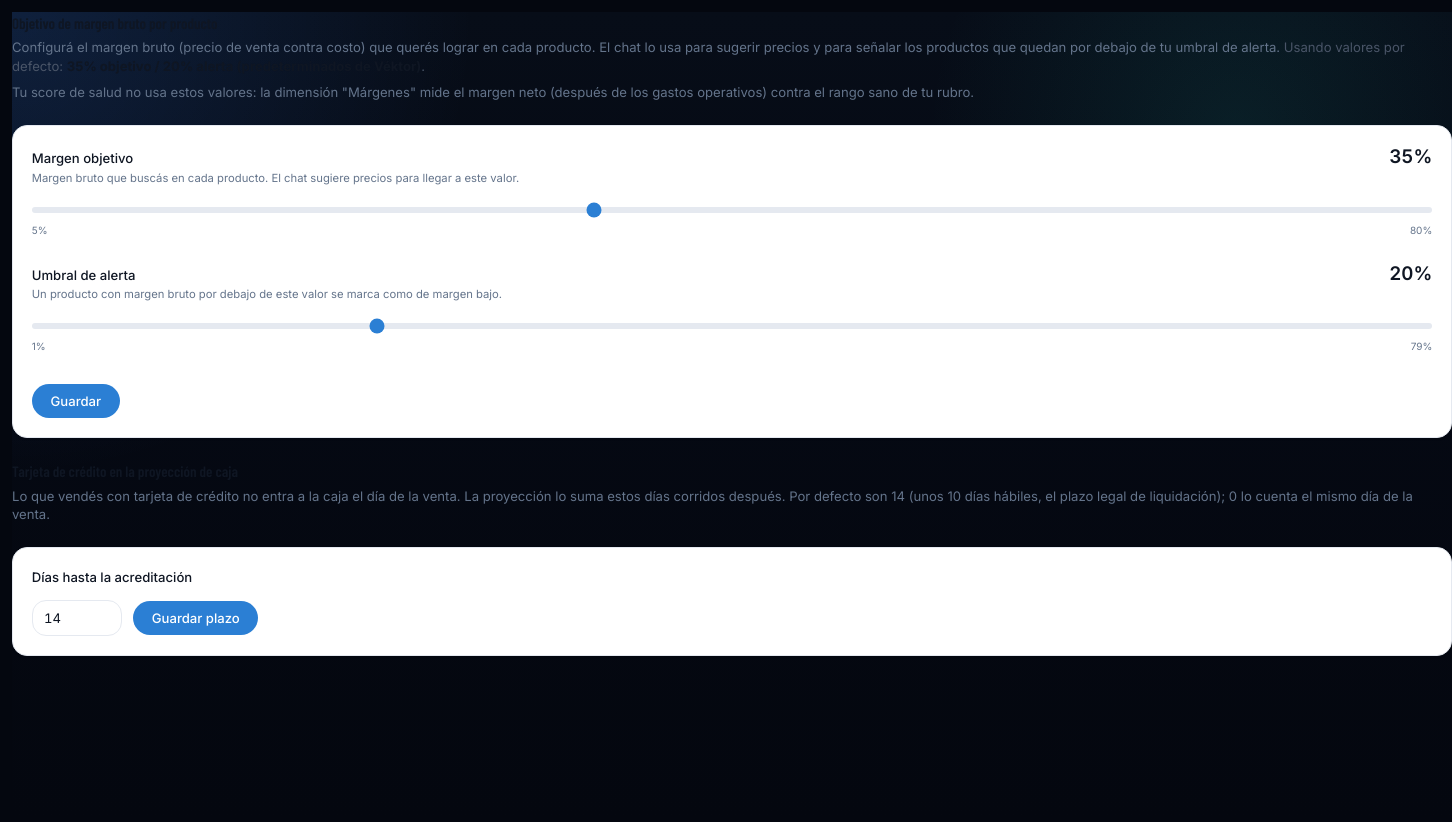
fuera de rango no deja guardar
Replace the text in the number field labelled "Días hasta la acreditación" with "61": (77, 618) [32,600,122,636]
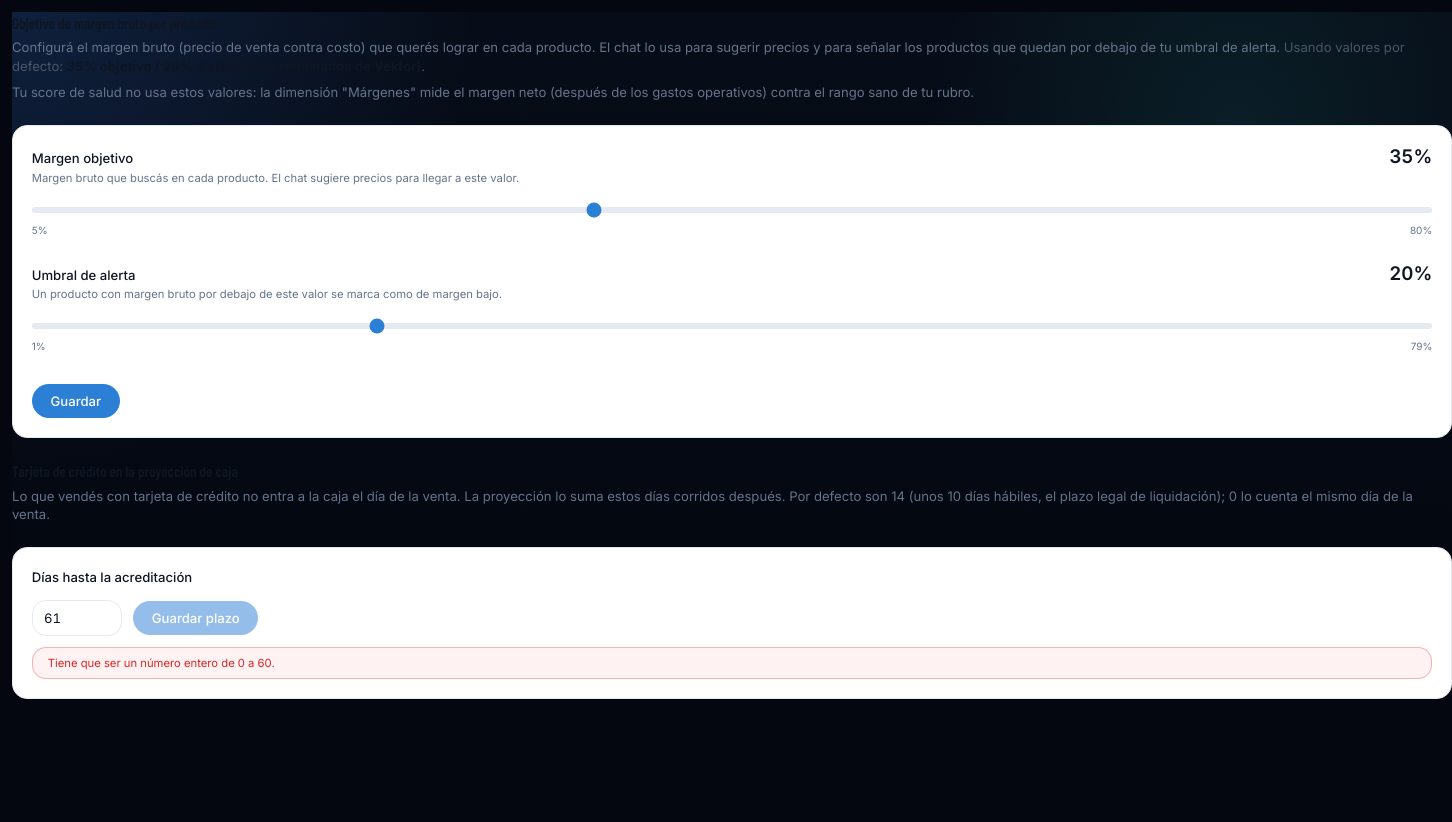
Now the button "Guardar plazo" is disabled, box [133,601,258,635]
Now the text "Tiene que ser un número entero de 0 a 60." is shown, box [32,647,1432,679]
